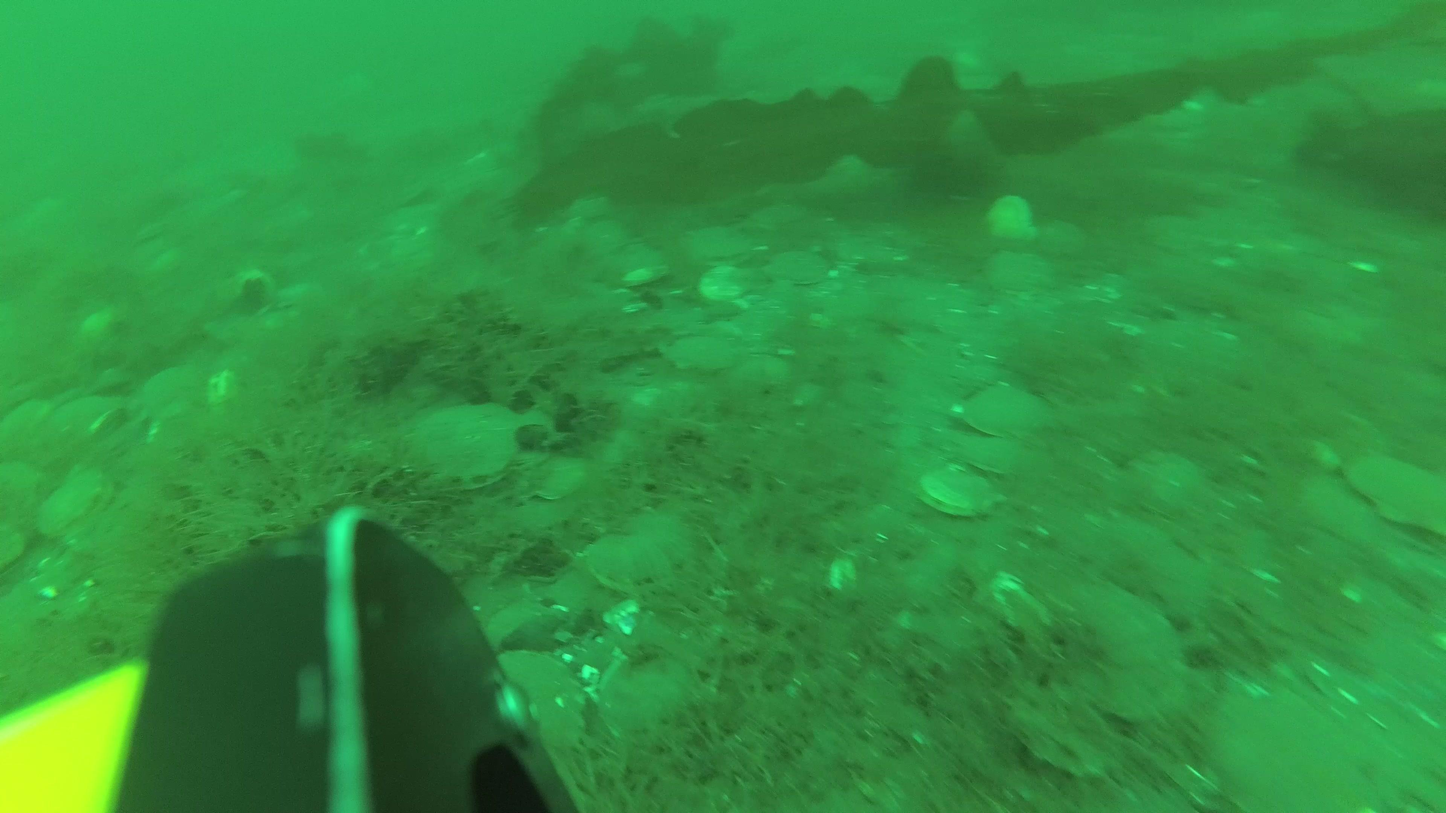scallop: (1203, 680, 1377, 813), (1043, 578, 1192, 725), (402, 399, 529, 500), (1346, 446, 1446, 544), (499, 646, 584, 758), (606, 660, 714, 747), (918, 458, 999, 528), (962, 375, 1051, 438), (935, 417, 1026, 476), (38, 471, 108, 541), (580, 534, 662, 592), (1132, 452, 1197, 525), (666, 325, 735, 379), (987, 250, 1057, 297), (686, 224, 746, 274), (528, 456, 585, 504), (767, 247, 828, 290), (989, 193, 1036, 241), (1147, 213, 1203, 252), (703, 264, 748, 301)
